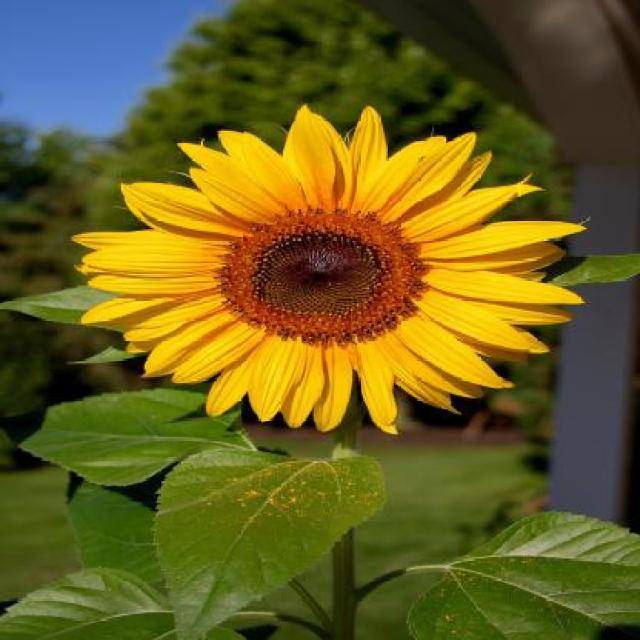sunflower: (56, 88, 638, 474)
